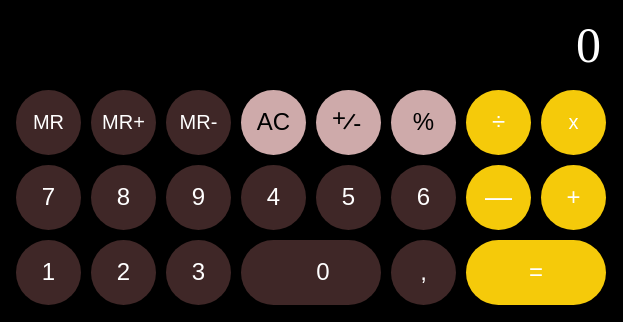
calculates addition correctly
The image size is (623, 322).
Click the button "1" at (48, 272), box [16, 240, 81, 305]
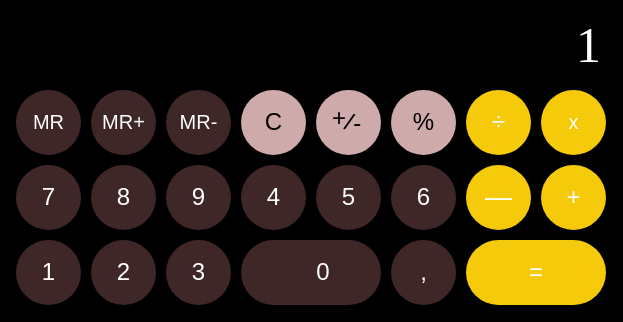
Click the button "2" at (124, 272), box [91, 240, 156, 305]
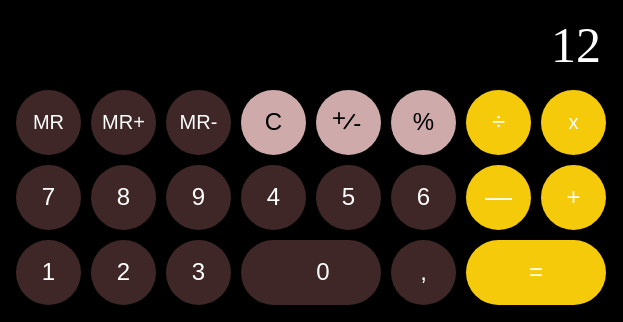
Click the button "+" at (574, 197), box [541, 165, 606, 230]
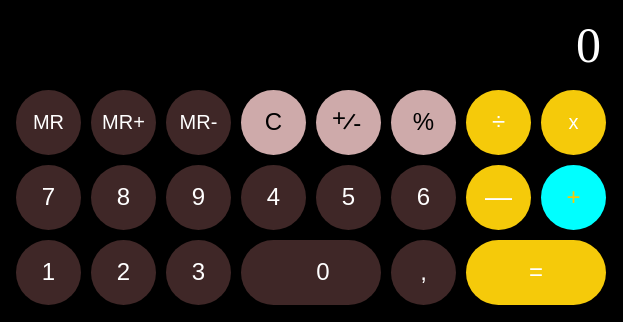
Click the button "3" at (198, 272), box [166, 240, 231, 305]
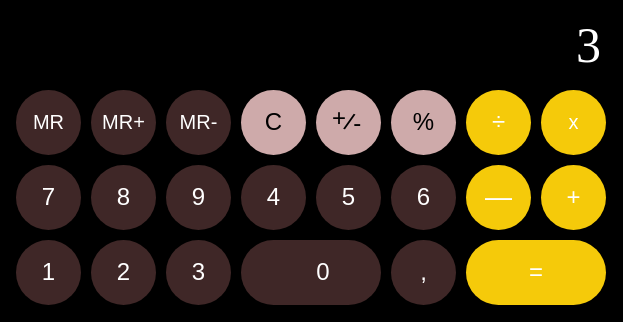
Click the button "=" at (536, 272), box [466, 240, 606, 305]
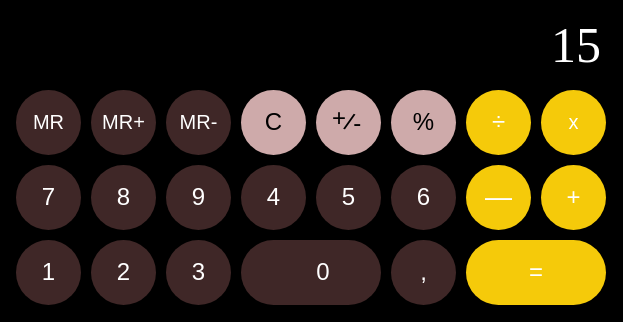
Result: the text "15" is shown at [551, 17, 601, 73]
